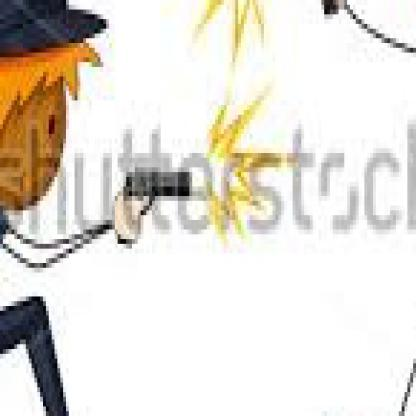gun: (115, 162, 195, 244), (270, 0, 341, 19)
